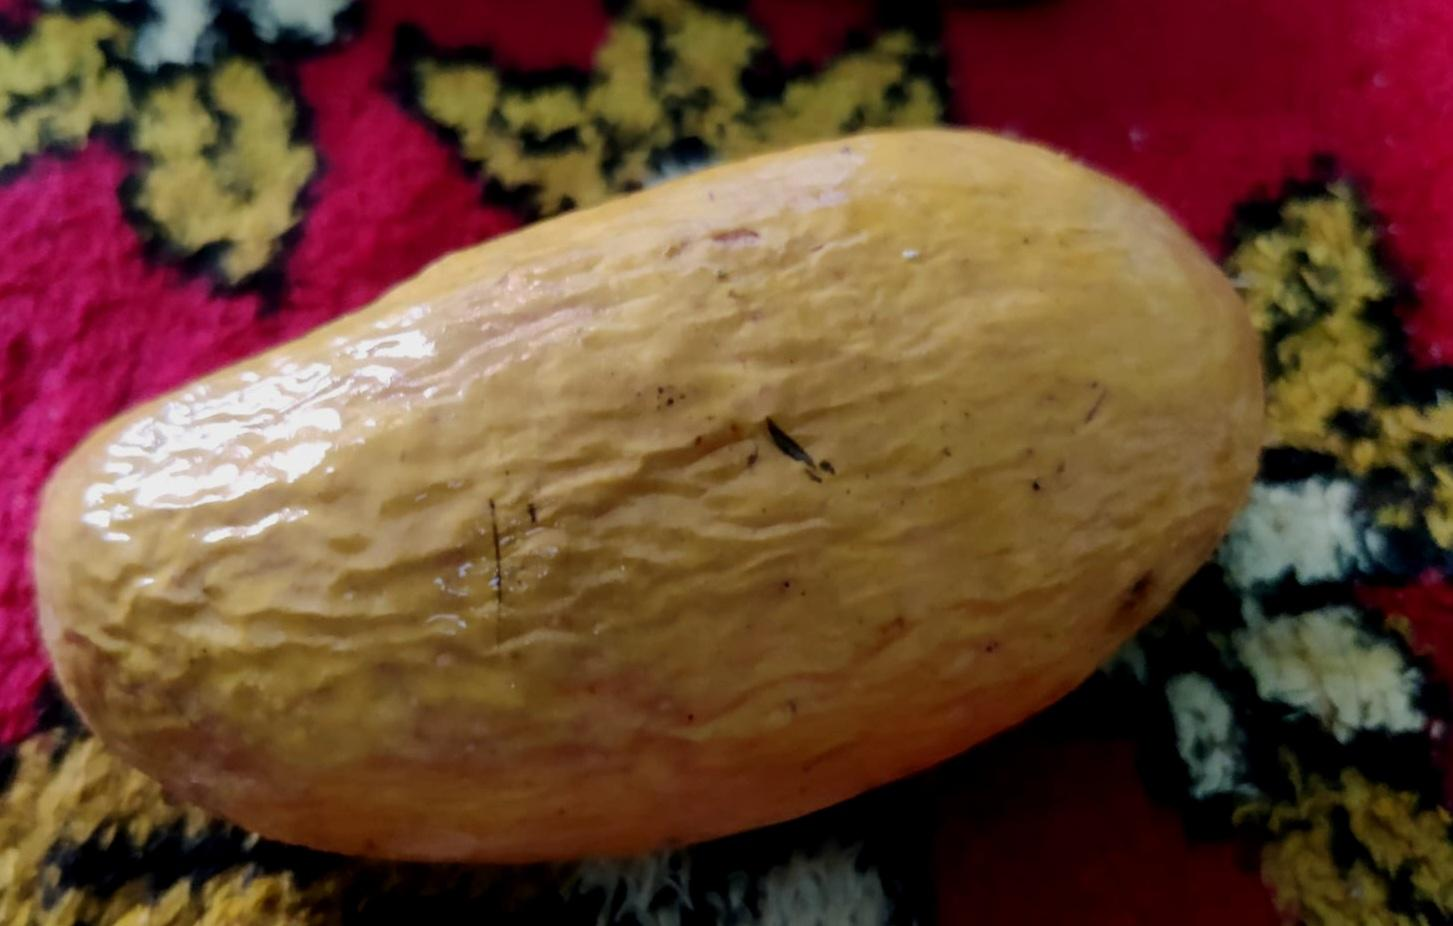mango: (31, 123, 1266, 866)
